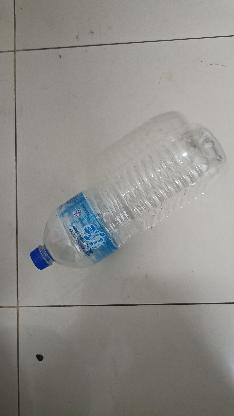Plastic Bottle: (31, 111, 234, 270)
